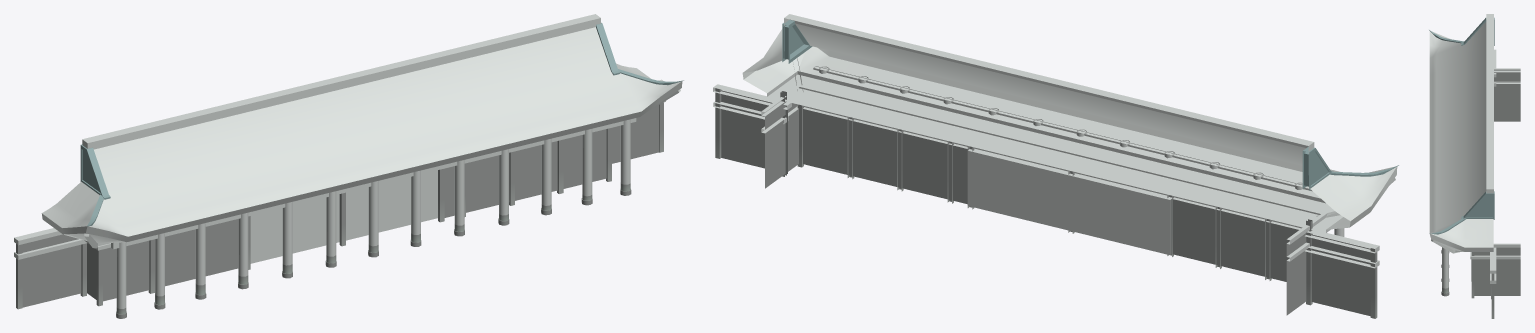
3 views of the same model, side by side, from view 1: azimuth 30°, elevation 25°; view 2: azimuth 150°, elevation 25°; view 3: azimuth 270°, elevation 25° (orthographic). The views are drawn at different scales.
Parts seen in each view (by area): view 1: G:\FFXIV-MapTools\exports\e3f2\bg\ex2\02_est_e3\fld\e3f2\bgp (×9); view 2: G:\FFXIV-MapTools\exports\e3f2\bg\ex2\02_est_e3\fld\e3f2\bgp (×9); view 3: G:\FFXIV-MapTools\exports\e3f2\bg\ex2\02_est_e3\fld\e3f2\bgp (×7).
Boxes of the visible parts, <box> form: G:\FFXIV-MapTools\exports\e3f2\bg\ex2\02_est_e3\fld\e3f2\bgp (×9): <box>14,14,683,318</box>; G:\FFXIV-MapTools\exports\e3f2\bg\ex2\02_est_e3\fld\e3f2\bgp (×9): <box>713,14,1398,318</box>; G:\FFXIV-MapTools\exports\e3f2\bg\ex2\02_est_e3\fld\e3f2\bgp (×7): <box>1429,14,1520,318</box>.
Size of the model in its own units: 67.81 by 15.56 by 11.98.
